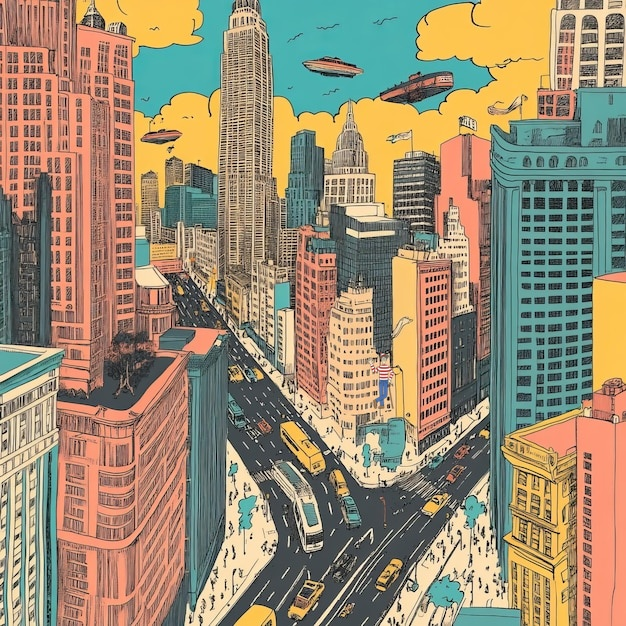waldo: (367, 352, 394, 409)
